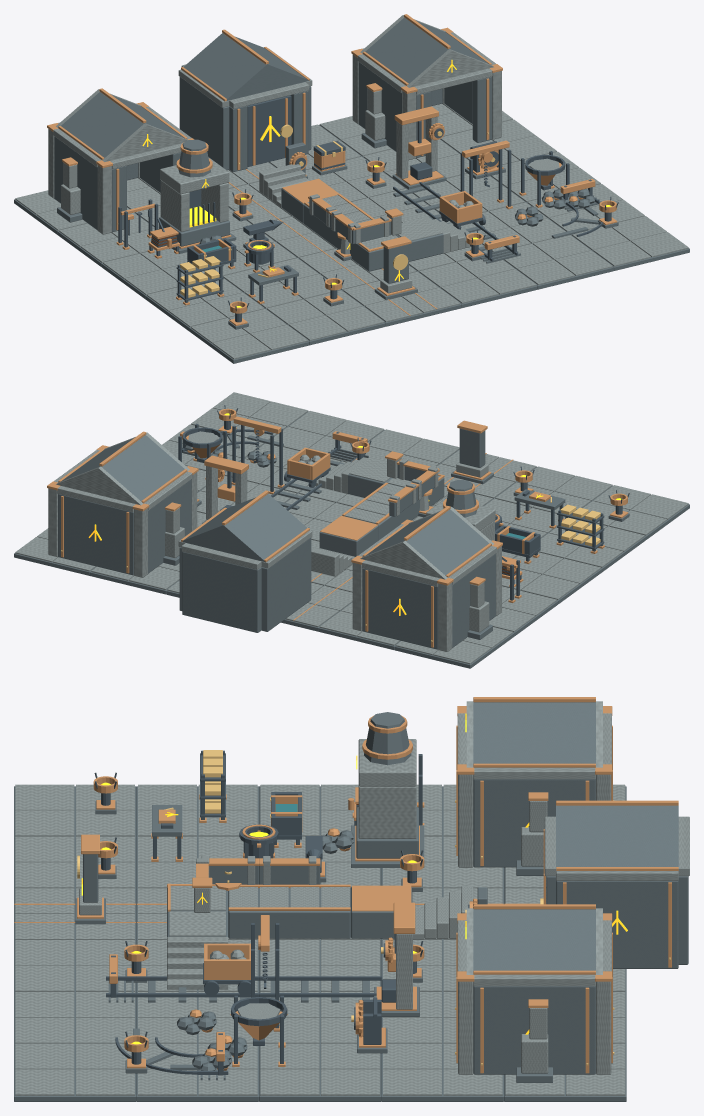
Rendered from dwarven-runeforge-dungeon-dwarven-runefo-1859d795-starter-scene__28617.glb.
3 views of the same model, one above another, from view 1: azimuth 30°, elevation 25°; view 2: azimuth 150°, elevation 25°; view 3: azimuth 270°, elevation 25° (orthographic). The views are drawn at different scales.
Visible parts, largest first — view 1: 077-dwarven-runeforge-dungeon-hall-roof/0, 038-dwarven-runeforge-dungeon-hall-roof/0, 051-dwarven-runeforge-dungeon-hall-roof/0, 029-dwarven-runeforge-dungeon-floor-bay/1, 056-dwarven-runeforge-dungeon-furnace/1, 019-dwarven-runeforge-dungeon-floor-bay/1, 009-dwarven-runeforge-dungeon-floor-bay/1, 004-dwarven-runeforge-dungeon-floor-bay/1, 024-dwarven-runeforge-dungeon-floor-bay/1, 075-dwarven-runeforge-dungeon-hall-wall/0, 014-dwarven-runeforge-dungeon-inlaid-path-bay/1, 003-dwarven-runeforge-dungeon-floor-bay/1 (+63 smaller); view 2: 074-dwarven-runeforge-dungeon-hall-wall/0, 031-dwarven-runeforge-dungeon-hall-wall/0, 077-dwarven-runeforge-dungeon-hall-roof/0, 044-dwarven-runeforge-dungeon-hall-wall/0, 051-dwarven-runeforge-dungeon-hall-roof/0, 038-dwarven-runeforge-dungeon-hall-roof/0, 075-dwarven-runeforge-dungeon-hall-wall/0, 004-dwarven-runeforge-dungeon-floor-bay/1, 002-dwarven-runeforge-dungeon-floor-bay/1, 024-dwarven-runeforge-dungeon-floor-bay/1, 029-dwarven-runeforge-dungeon-floor-bay/1, 009-dwarven-runeforge-dungeon-floor-bay/1 (+58 smaller); view 3: 046-dwarven-runeforge-dungeon-hall-wall/0, 077-dwarven-runeforge-dungeon-hall-roof/0, 051-dwarven-runeforge-dungeon-hall-roof/0, 038-dwarven-runeforge-dungeon-hall-roof/0, 076-dwarven-runeforge-dungeon-hall-wall/0, 029-dwarven-runeforge-dungeon-floor-bay/1, 027-dwarven-runeforge-dungeon-floor-bay/1, 024-dwarven-runeforge-dungeon-floor-bay/1, 033-dwarven-runeforge-dungeon-hall-wall/0, 004-dwarven-runeforge-dungeon-floor-bay/1, 019-dwarven-runeforge-dungeon-floor-bay/1, 017-dwarven-runeforge-dungeon-floor-bay/1 (+69 smaller).
Part boxes in pixels (box(x1,y1,x2,y2)): 077-dwarven-runeforge-dungeon-hall-roof/0: box(181, 33, 309, 101); 038-dwarven-runeforge-dungeon-hall-roof/0: box(58, 92, 184, 159); 051-dwarven-runeforge-dungeon-hall-roof/0: box(363, 17, 488, 85); 029-dwarven-runeforge-dungeon-floor-bay/1: box(571, 216, 688, 266); 056-dwarven-runeforge-dungeon-furnace/1: box(160, 157, 229, 231); 019-dwarven-runeforge-dungeon-floor-bay/1: box(419, 259, 536, 303); 009-dwarven-runeforge-dungeon-floor-bay/1: box(267, 290, 384, 340); 004-dwarven-runeforge-dungeon-floor-bay/1: box(191, 309, 308, 359); 024-dwarven-runeforge-dungeon-floor-bay/1: box(504, 235, 612, 284); 075-dwarven-runeforge-dungeon-hall-wall/0: box(179, 77, 229, 170); 014-dwarven-runeforge-dungeon-inlaid-path-bay/1: box(343, 271, 460, 322); 003-dwarven-runeforge-dungeon-floor-bay/1: box(147, 278, 264, 327); 074-dwarven-runeforge-dungeon-hall-wall/0: box(182, 551, 261, 632); 031-dwarven-runeforge-dungeon-hall-wall/0: box(362, 568, 438, 649); 077-dwarven-runeforge-dungeon-hall-roof/0: box(183, 494, 309, 562); 044-dwarven-runeforge-dungeon-hall-wall/0: box(58, 494, 133, 575); 051-dwarven-runeforge-dungeon-hall-roof/0: box(61, 435, 187, 503); 038-dwarven-runeforge-dungeon-hall-roof/0: box(365, 509, 491, 577); 075-dwarven-runeforge-dungeon-hall-wall/0: box(261, 538, 311, 631); 004-dwarven-runeforge-dungeon-floor-bay/1: box(583, 485, 688, 535); 002-dwarven-runeforge-dungeon-floor-bay/1: box(502, 552, 600, 599); 024-dwarven-runeforge-dungeon-floor-bay/1: box(274, 411, 384, 461); 029-dwarven-runeforge-dungeon-floor-bay/1: box(191, 392, 308, 439); 009-dwarven-runeforge-dungeon-floor-bay/1: box(495, 466, 612, 513); 046-dwarven-runeforge-dungeon-hall-wall/0: box(473, 986, 595, 1074); 077-dwarven-runeforge-dungeon-hall-roof/0: box(556, 805, 678, 871); 051-dwarven-runeforge-dungeon-hall-roof/0: box(473, 909, 595, 974); 038-dwarven-runeforge-dungeon-hall-roof/0: box(473, 702, 595, 767); 076-dwarven-runeforge-dungeon-hall-wall/0: box(556, 880, 678, 968); 029-dwarven-runeforge-dungeon-floor-bay/1: box(15, 1043, 134, 1095); 027-dwarven-runeforge-dungeon-floor-bay/1: box(260, 1043, 380, 1095); 024-dwarven-runeforge-dungeon-floor-bay/1: box(15, 992, 134, 1043); 033-dwarven-runeforge-dungeon-hall-wall/0: box(473, 779, 595, 867); 004-dwarven-runeforge-dungeon-floor-bay/1: box(15, 784, 134, 836); 019-dwarven-runeforge-dungeon-floor-bay/1: box(15, 940, 134, 991); 017-dwarven-runeforge-dungeon-floor-bay/1: box(260, 940, 380, 991).
Size of the model in its own units: 24 by 5.24 by 22.07.
Materials: 8 (3 with a texture image).
